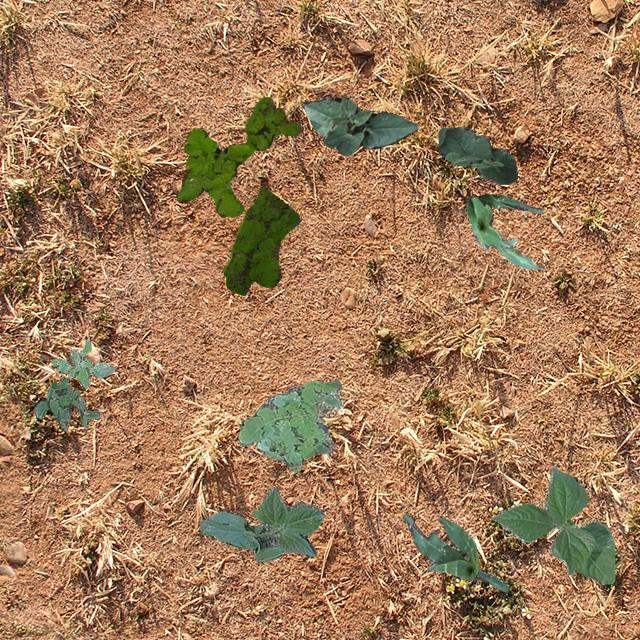crop: (492, 466, 614, 584), (198, 486, 324, 562), (402, 512, 507, 592), (302, 96, 418, 154), (464, 192, 544, 268), (436, 125, 516, 183)
weed: (174, 96, 300, 216), (238, 378, 342, 471), (222, 186, 300, 294), (33, 376, 100, 429), (49, 338, 114, 386)
